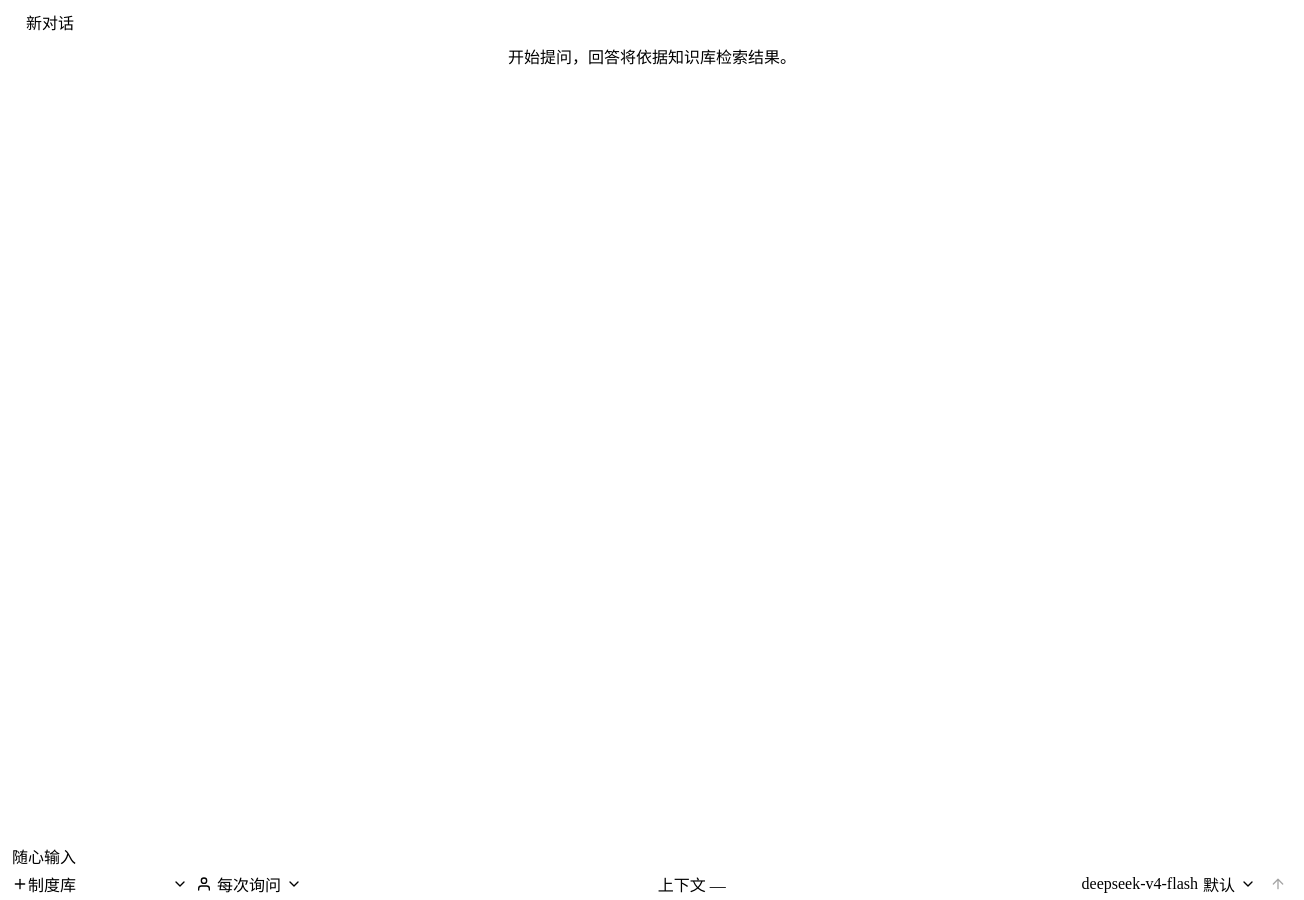
Test: knowledge-qa surface › shows dataset select when knowledge-qa surface mounts picker
The image size is (1304, 900).
Click the dropdown with test id "knowledge-dataset-select" at (108, 884), box [28, 872, 188, 896]
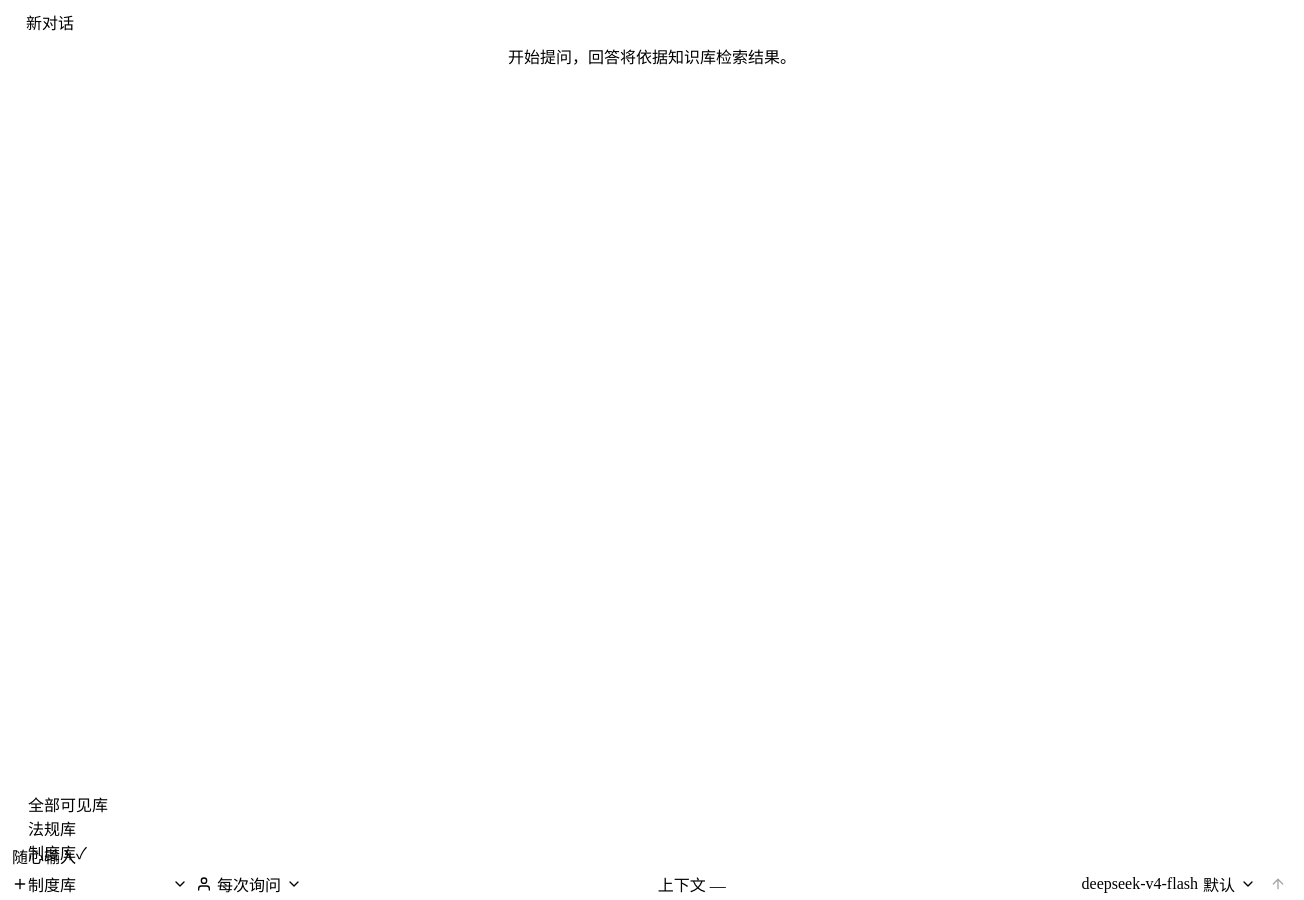
Press Escape
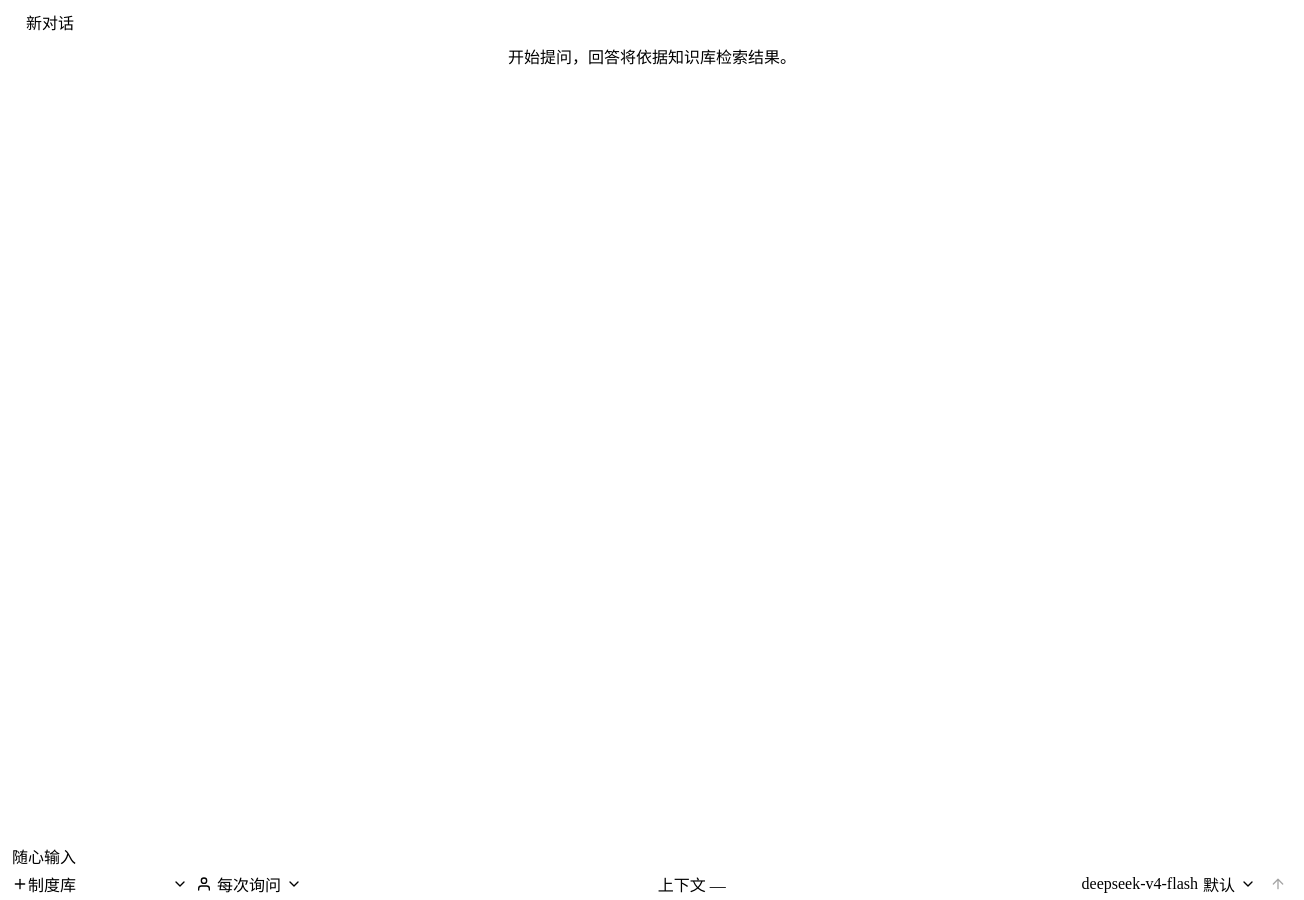
Now the menu with class "ui-menu--fixed" is gone
